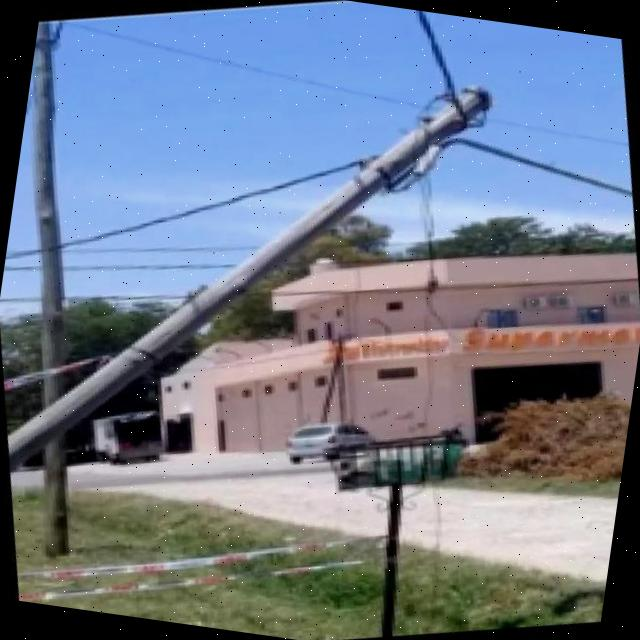Broken Pole: (7, 89, 491, 469)
